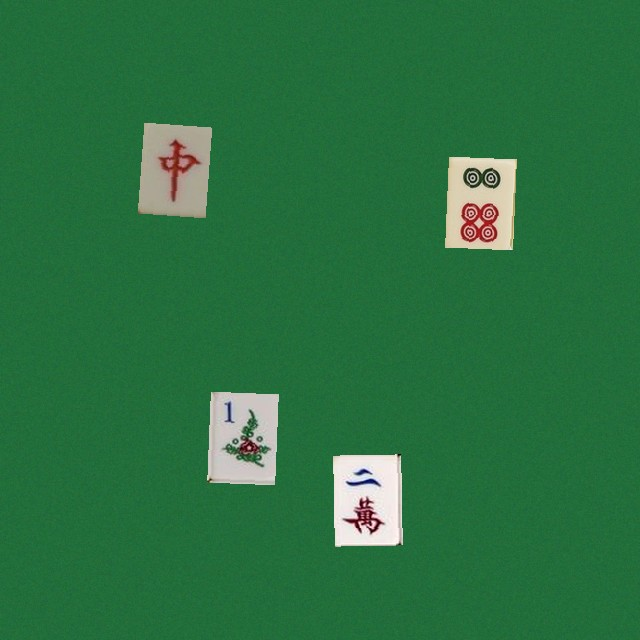tile: (445, 156, 513, 247), (207, 391, 275, 482), (333, 454, 401, 545), (137, 122, 205, 213)
